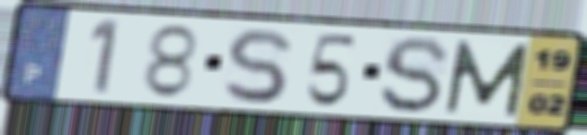1: (85, 17, 121, 96)
5: (302, 30, 359, 108)
8: (141, 22, 201, 100)
M: (442, 38, 532, 119)
S: (375, 33, 454, 116), (220, 25, 294, 106)
